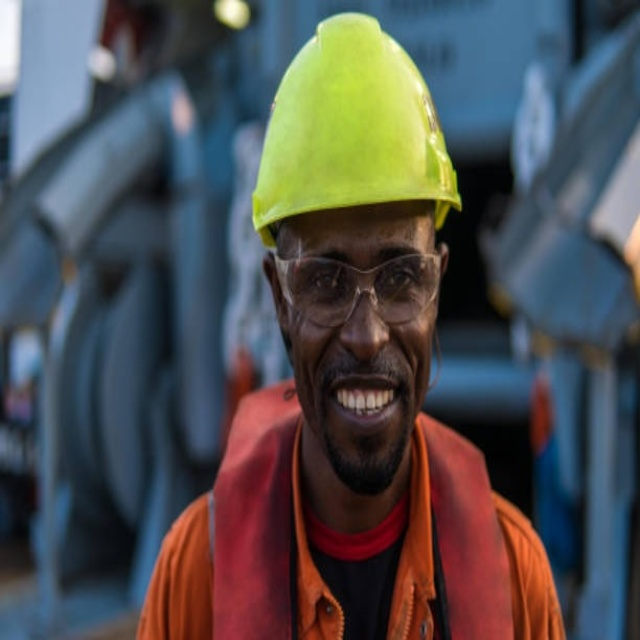Gafas: (272, 246, 443, 329)
Sin_mascara: (319, 359, 409, 450)
